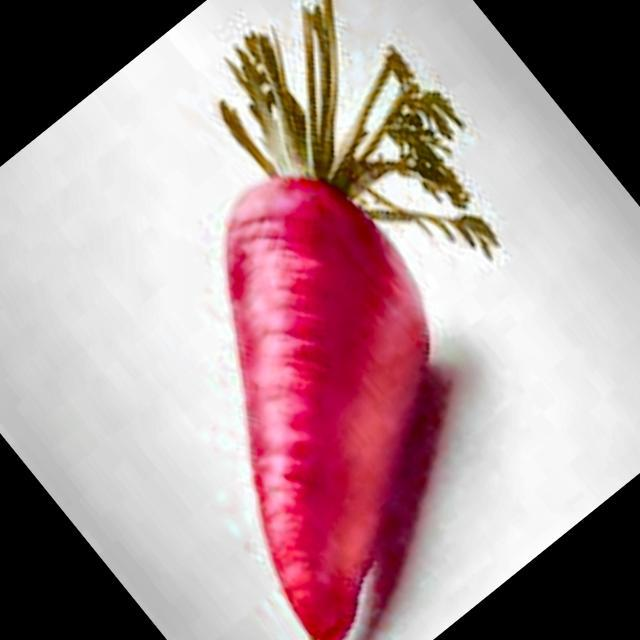carrot: (221, 0, 498, 640)
